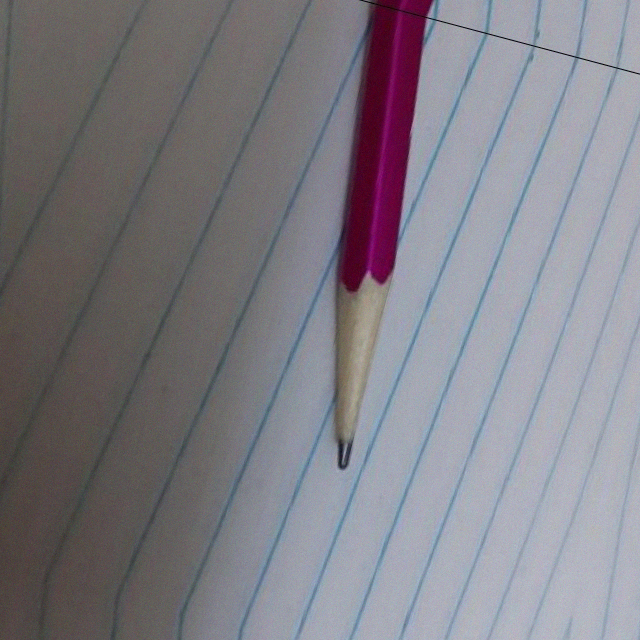pencil: (290, 259, 421, 484)
